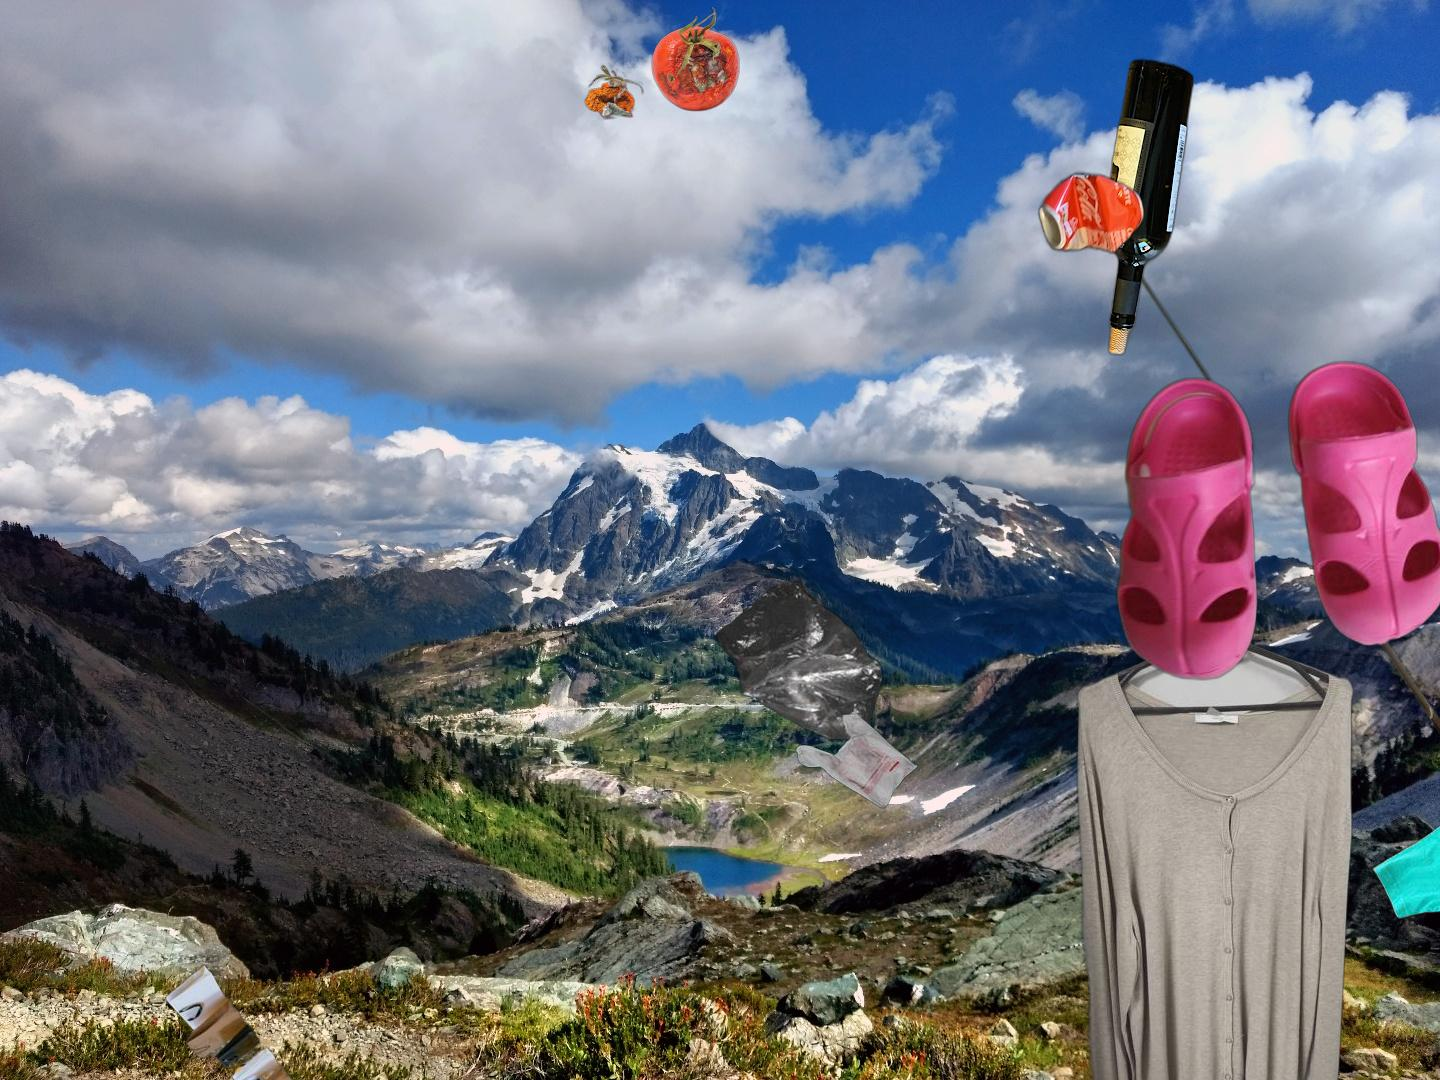biological: (583, 5, 742, 123)
clothes: (1074, 628, 1357, 1080), (1359, 714, 1440, 1080)
glass: (1099, 53, 1197, 360)
metal-cans: (1035, 166, 1149, 259)
paper-bag: (164, 961, 310, 1080)
plastic-bag: (714, 577, 920, 811)
shoes: (1115, 248, 1440, 782)
